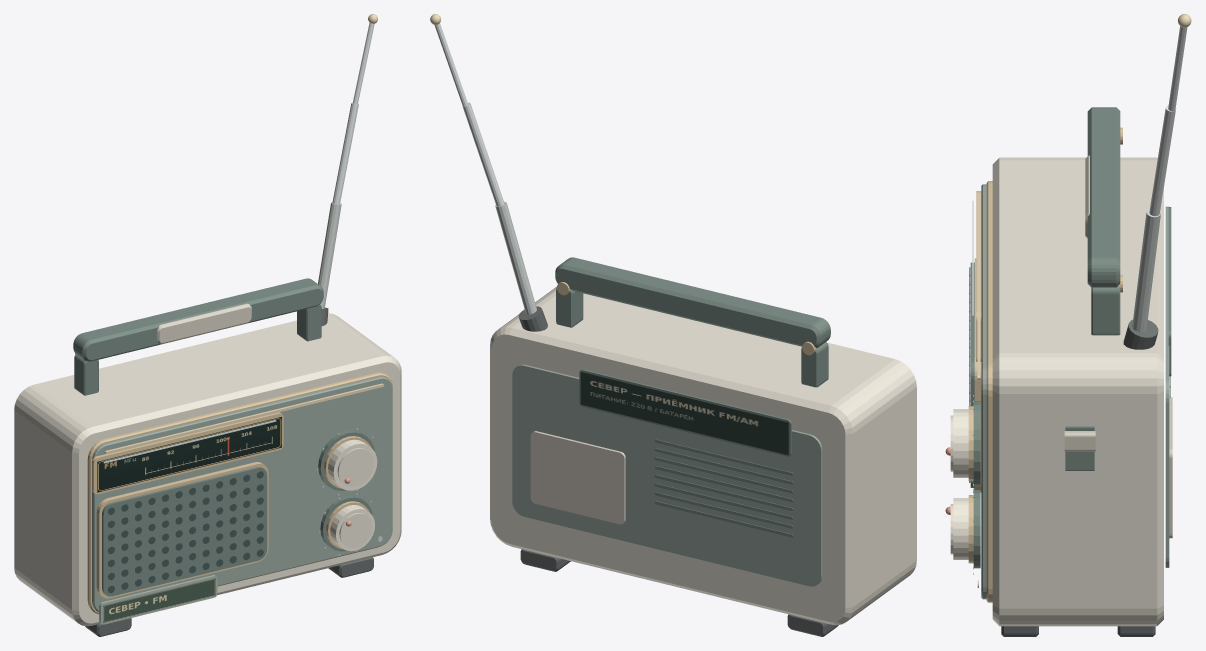
File: coffee_shift_radio_receiver.glb
3 views of the same model, side by side, from view 1: azimuth 30°, elevation 25°; view 2: azimuth 150°, elevation 25°; view 3: azimuth 270°, elevation 25° (orthographic). The views are drawn at different scales.
Visible parts, largest first — view 1: Static_cream, Static_olive_dark, Static_olive, Static_brass, 10_FM_Dial, Static_hole, 13_BrandLabel, Static_cream_shadow, Static_silver, Static_brass_light, Static_black, 23_Volume_Top (+5 smaller); view 2: Static_cream, Static_olive, Static_olive_dark, Static_cream_shadow, 64_BackLabel, Static_black, Static_silver, Static_metal; view 3: Static_cream, Static_olive_dark, Static_brass, Static_olive, Static_silver, Static_metal, Static_cream_shadow, Static_black, 22_Volume_Knob, 22_Tune_Knob, Static_brass_light.
Boxes of the visible parts, bbox=[...] form: Static_cream: bbox=[14, 313, 401, 626]; Static_olive_dark: bbox=[73, 278, 374, 596]; Static_olive: bbox=[92, 376, 392, 612]; Static_brass: bbox=[75, 353, 392, 614]; 10_FM_Dial: bbox=[97, 417, 281, 492]; Static_hole: bbox=[108, 471, 263, 593]; 13_BrandLabel: bbox=[103, 578, 215, 622]; Static_cream_shadow: bbox=[157, 303, 373, 555]; Static_silver: bbox=[103, 23, 374, 463]; Static_brass_light: bbox=[104, 14, 384, 454]; Static_black: bbox=[85, 307, 373, 636]; 23_Volume_Top: bbox=[337, 448, 374, 487]; Static_cream: bbox=[490, 286, 916, 625]; Static_olive: bbox=[512, 364, 822, 586]; Static_olive_dark: bbox=[555, 257, 830, 537]; Static_cream_shadow: bbox=[530, 431, 625, 524]; 64_BackLabel: bbox=[580, 372, 788, 455]; Static_black: bbox=[518, 306, 838, 636]; Static_silver: bbox=[434, 23, 504, 206]; Static_metal: bbox=[495, 201, 536, 314]; Static_cream: bbox=[992, 157, 1163, 626]; Static_olive_dark: bbox=[970, 107, 1171, 568]; Static_brass: bbox=[968, 127, 1122, 602]; Static_olive: bbox=[981, 184, 1169, 599]; Static_silver: bbox=[972, 26, 1187, 316]; Static_metal: bbox=[977, 208, 1160, 587]; Static_cream_shadow: bbox=[973, 155, 1172, 574]; Static_black: bbox=[1001, 319, 1158, 636]; 22_Volume_Knob: bbox=[953, 409, 968, 477]; 22_Tune_Knob: bbox=[953, 498, 968, 559]; Static_brass_light: bbox=[977, 14, 1191, 379].
Bounding box in the file's own units: 0.342 × 0.43 × 0.1435.
16 materials, 3 textured.
